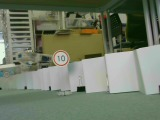speed_10: (51, 48, 70, 67)
